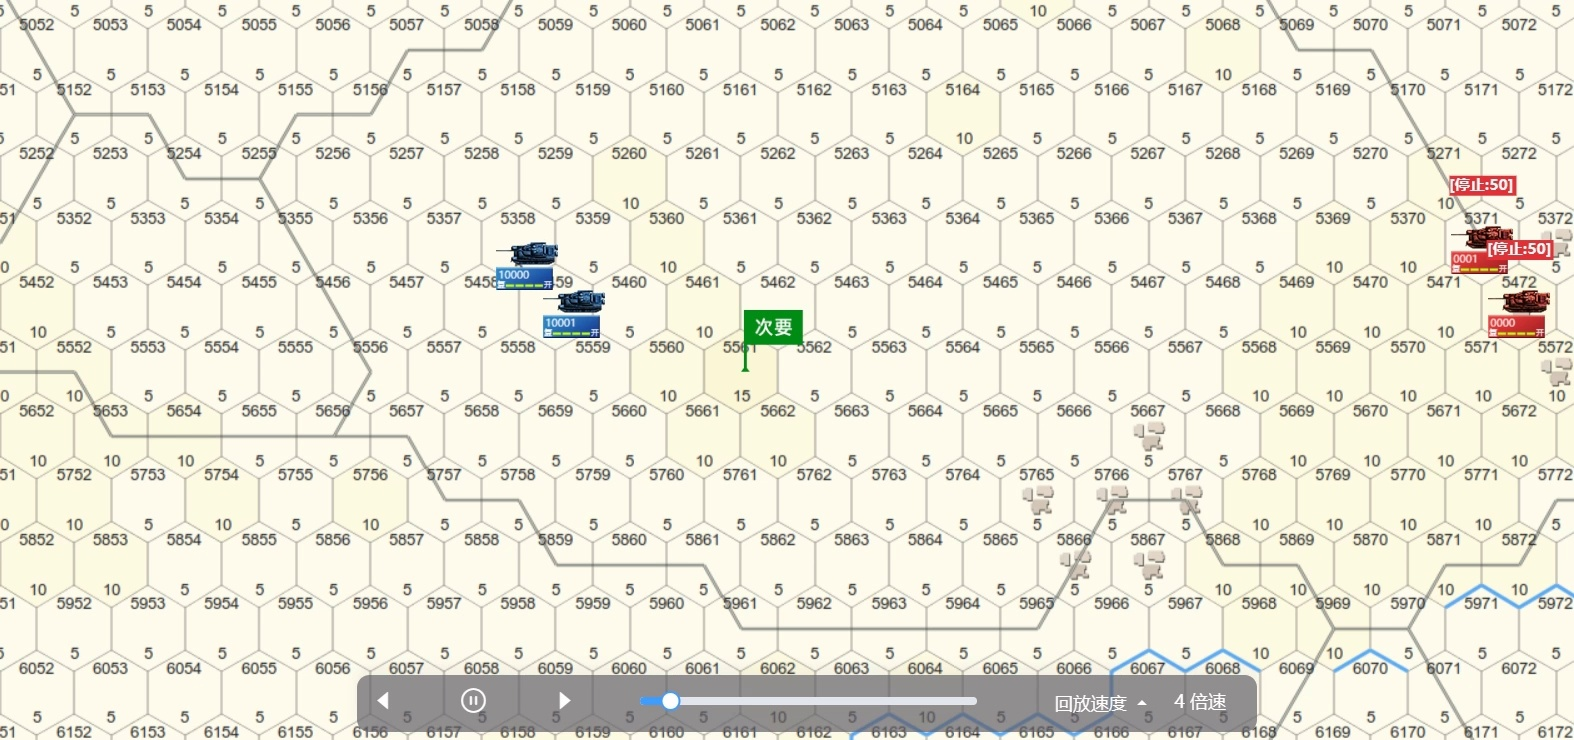blue_tank: (545, 288, 607, 343), (494, 239, 558, 290)
red_tank: (1492, 290, 1553, 341), (1457, 226, 1509, 277)
